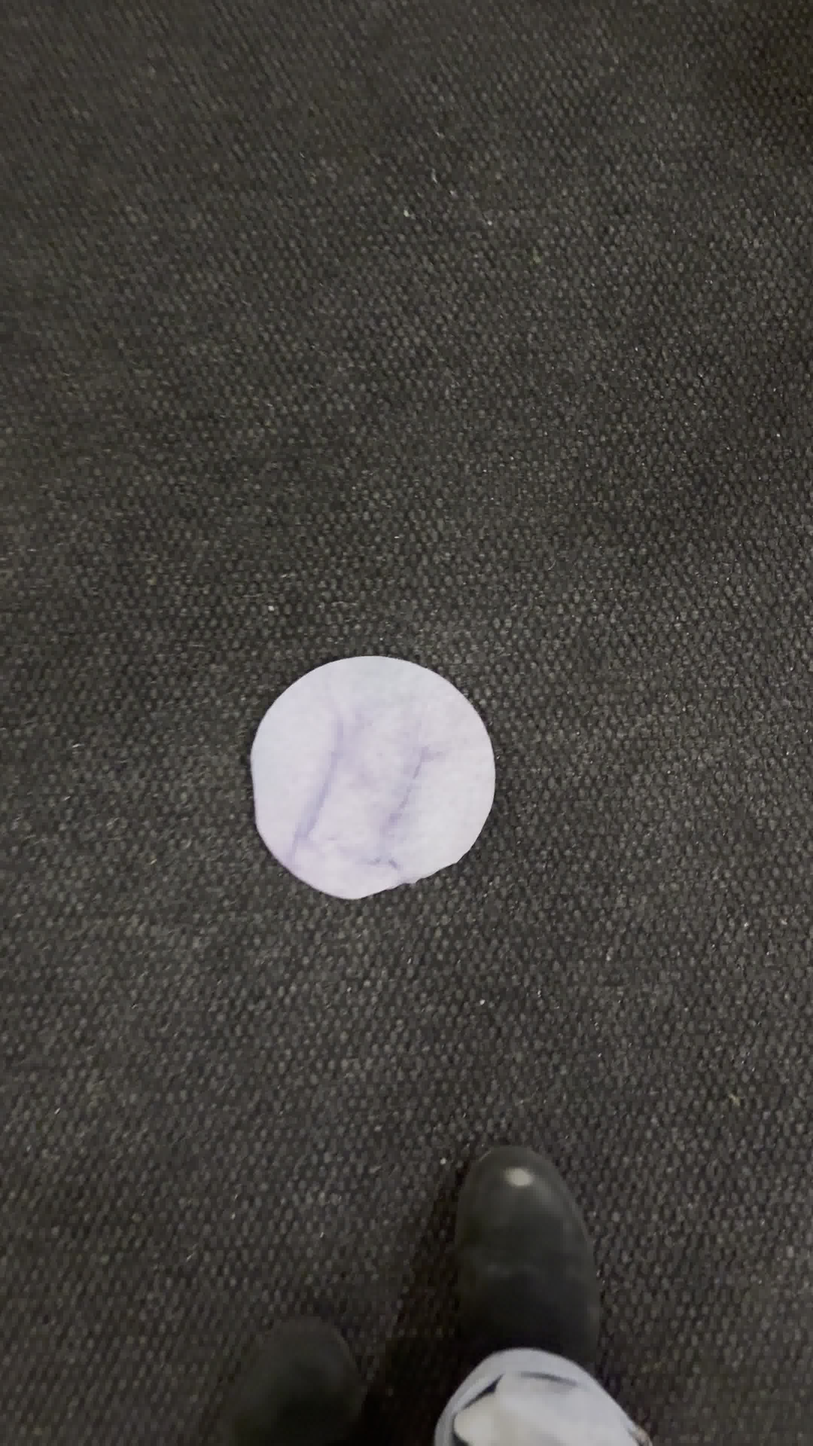Target: (250, 656, 497, 900)
